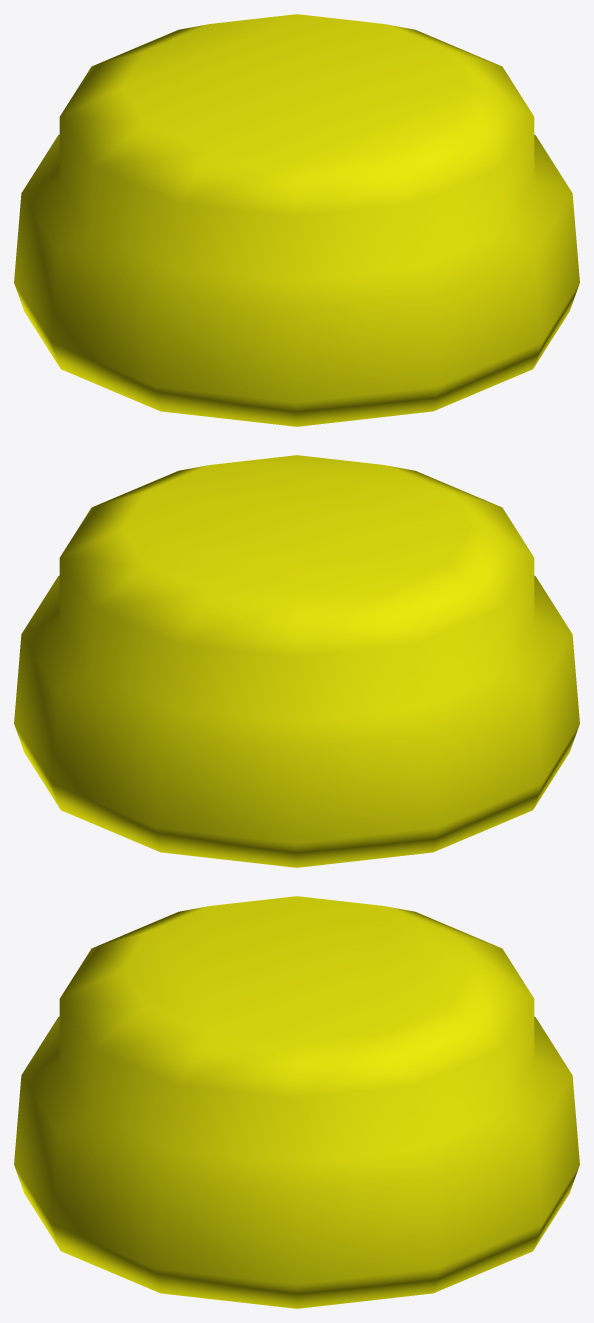
The model's file is S_Pillar_01_A.fbx.
3 views of the same model, one above another, from view 1: azimuth 30°, elevation 25°; view 2: azimuth 150°, elevation 25°; view 3: azimuth 270°, elevation 25° (orthographic).
Visible parts, largest first — view 1: S_Pillar_01_A; view 2: S_Pillar_01_A; view 3: S_Pillar_01_A.
Boxes of the visible parts, x1=… form: S_Pillar_01_A: x1=14, y1=14, x2=579, y2=426; S_Pillar_01_A: x1=14, y1=455, x2=579, y2=867; S_Pillar_01_A: x1=14, y1=896, x2=579, y2=1308.
Bounding box in the file's own units: 42.98 × 18.75 × 42.98.
